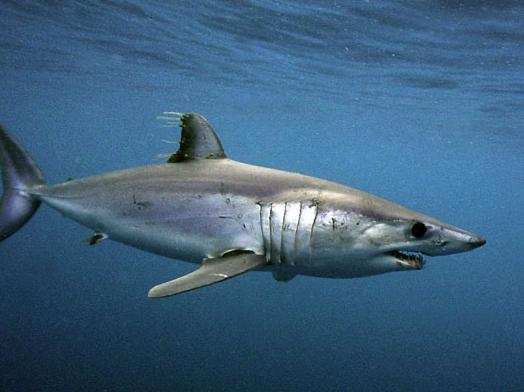Shark -Selachimorpha-: (0, 104, 489, 303)
